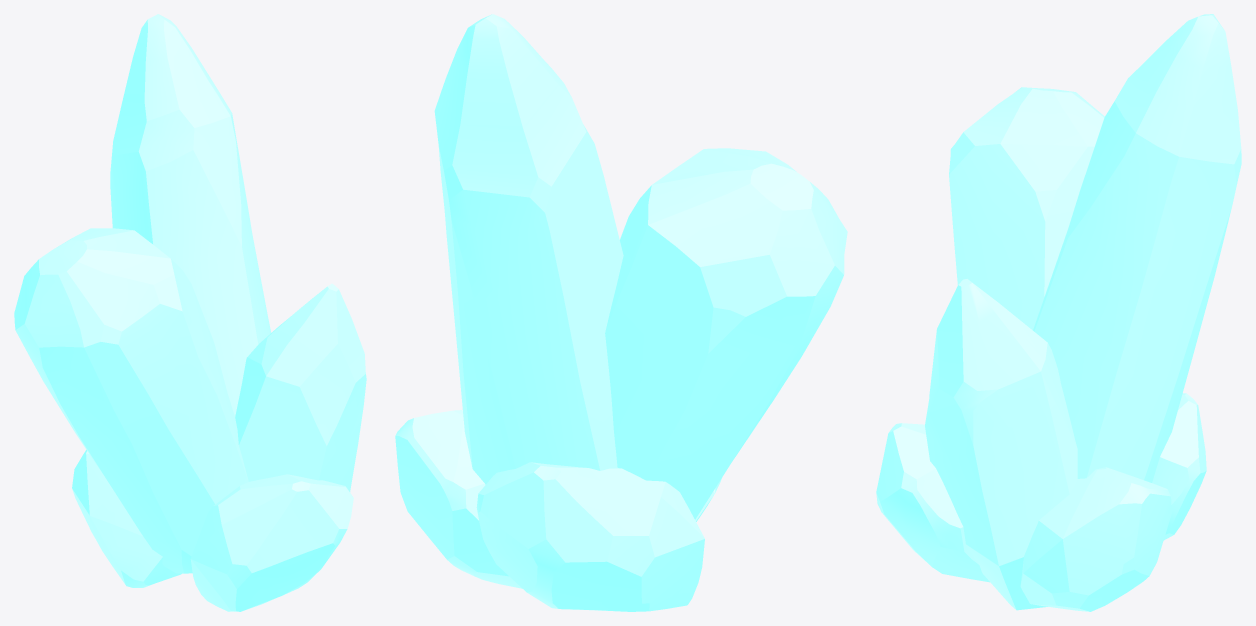
File: Crystal1.FBX
3 views of the same model, side by side, from view 1: azimuth 30°, elevation 25°; view 2: azimuth 150°, elevation 25°; view 3: azimuth 270°, elevation 25° (orthographic). The views are drawn at different scales.
Parts seen in each view (by area): view 1: Cristalli_1; view 2: Cristalli_1; view 3: Cristalli_1.
Boxes of the visible parts, x1,y1,x2,y2 form: Cristalli_1: [14, 14, 366, 611]; Cristalli_1: [395, 14, 847, 611]; Cristalli_1: [876, 14, 1241, 611].
Bounding box in the file's own units: 9.66 × 14.69 × 8.44.
Materials: 1 (1 with a texture image).
